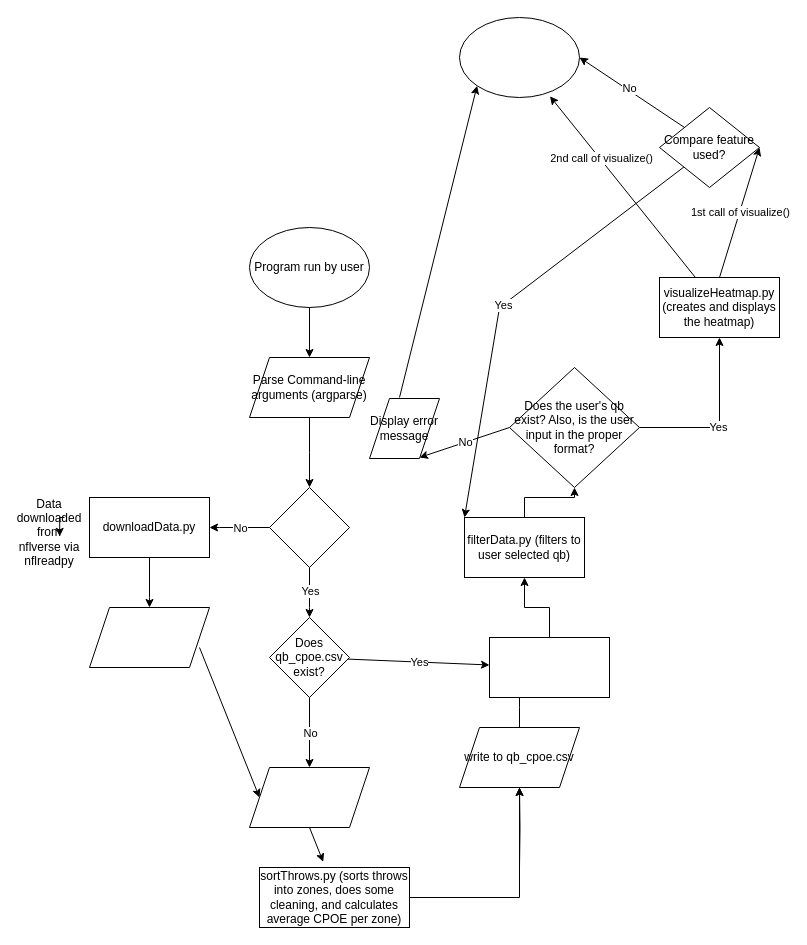
The diagram is 807 pixels wide and 945 high, and some of its shapes have lost their labels. The shapes that lost their labels are listed below. From the top down, each one's box as (x1, y1, x2, y2) in pixels, then its label:
(458, 16, 580, 98): End
(268, 486, 350, 568): Does data.csv exist?
(88, 606, 210, 668): Write to data.csv
(488, 636, 610, 698): read qb_cpoe.csv
(248, 766, 370, 828): Read data.csv
